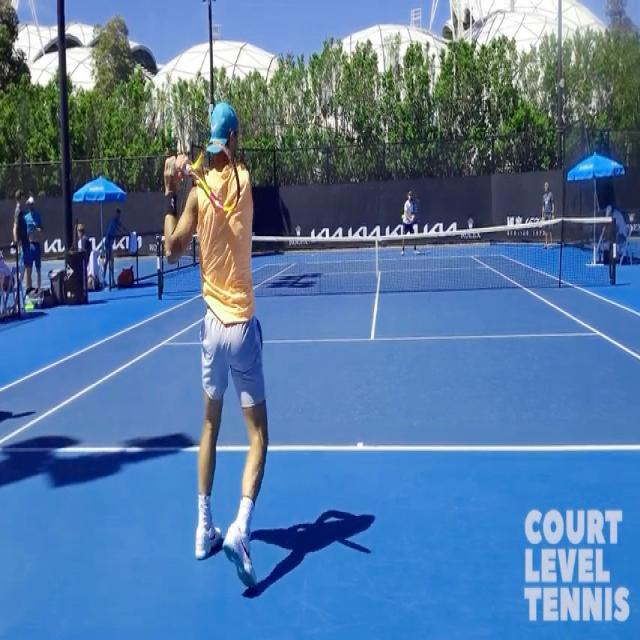backhand-finish: (154, 73, 274, 607)
